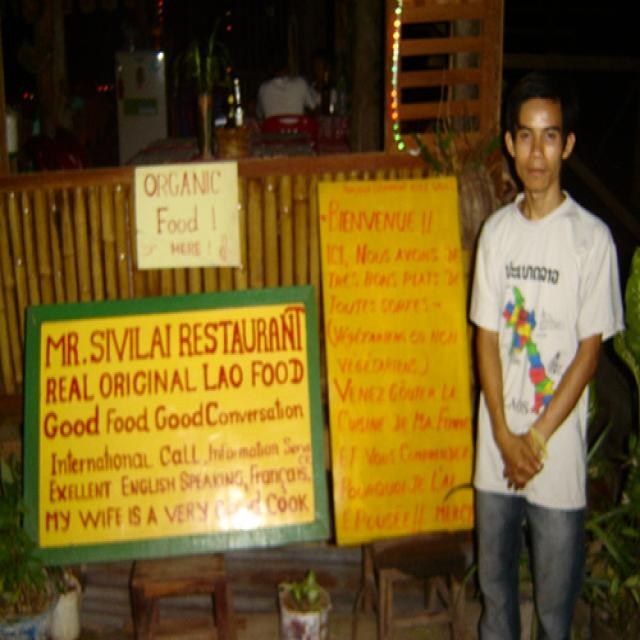bottle: (221, 61, 238, 129), (232, 78, 245, 131)
chair: (358, 541, 467, 640), (127, 551, 236, 639)
person: (468, 78, 627, 639), (253, 51, 322, 122)
pottedplant: (1, 454, 60, 640), (277, 566, 334, 639)
